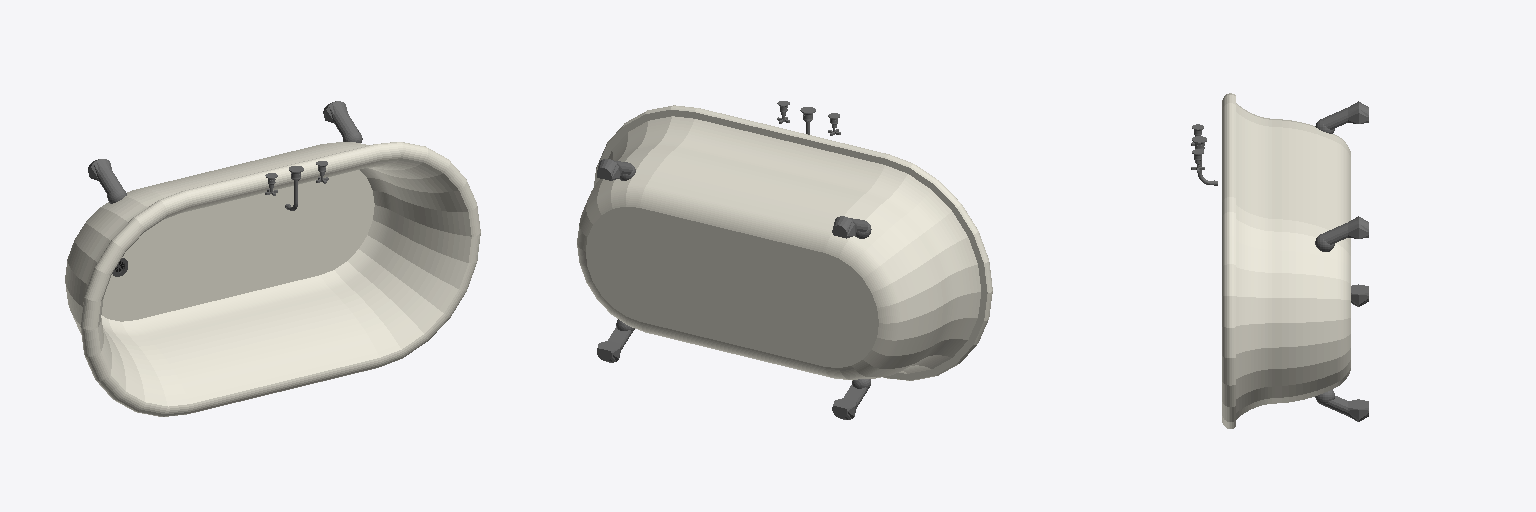
File: bathtub.obj
3 views of the same model, side by side, from view 1: azimuth 30°, elevation 25°; view 2: azimuth 150°, elevation 25°; view 3: azimuth 270°, elevation 25° (orthographic).
Visible parts, largest first — view 1: Mesh4 Component3_1_1 Component_1_1 skpFDVpk1_1 Model, Mesh3 Component2_1_2 Component_1_1 skpFDVpk1_1 Model, Mesh2 Component2_1_1 Component_1_1 skpFDVpk1_1 Model; view 2: Mesh4 Component3_1_1 Component_1_1 skpFDVpk1_1 Model, Mesh1 Component1_1_1 Component_1_1 skpFDVpk1_1 Model, Mesh5 Component1_1_2 Component_1_1 skpFDVpk1_1 Model, Mesh3 Component2_1_2 Component_1_1 skpFDVpk1_1 Model, Mesh2 Component2_1_1 Component_1_1 skpFDVpk1_1 Model; view 3: Mesh4 Component3_1_1 Component_1_1 skpFDVpk1_1 Model, Mesh2 Component2_1_1 Component_1_1 skpFDVpk1_1 Model, Mesh3 Component2_1_2 Component_1_1 skpFDVpk1_1 Model, Mesh5 Component1_1_2 Component_1_1 skpFDVpk1_1 Model.
Boxes of the visible parts, box(x1,y1,x2,y2) form: Mesh4 Component3_1_1 Component_1_1 skpFDVpk1_1 Model: box(65, 142, 480, 416); Mesh3 Component2_1_2 Component_1_1 skpFDVpk1_1 Model: box(88, 159, 126, 203); Mesh2 Component2_1_1 Component_1_1 skpFDVpk1_1 Model: box(323, 101, 362, 142); Mesh4 Component3_1_1 Component_1_1 skpFDVpk1_1 Model: box(577, 105, 992, 380); Mesh1 Component1_1_1 Component_1_1 skpFDVpk1_1 Model: box(832, 379, 870, 419); Mesh5 Component1_1_2 Component_1_1 skpFDVpk1_1 Model: box(597, 319, 634, 362); Mesh3 Component2_1_2 Component_1_1 skpFDVpk1_1 Model: box(832, 216, 871, 238); Mesh2 Component2_1_1 Component_1_1 skpFDVpk1_1 Model: box(597, 159, 635, 180); Mesh4 Component3_1_1 Component_1_1 skpFDVpk1_1 Model: box(1222, 93, 1350, 428); Mesh2 Component2_1_1 Component_1_1 skpFDVpk1_1 Model: box(1315, 216, 1368, 251); Mesh3 Component2_1_2 Component_1_1 skpFDVpk1_1 Model: box(1315, 101, 1368, 133); Mesh5 Component1_1_2 Component_1_1 skpFDVpk1_1 Model: box(1315, 389, 1368, 421).
Bounding box in the file's own units: 2.36 × 1.32 × 0.9118.